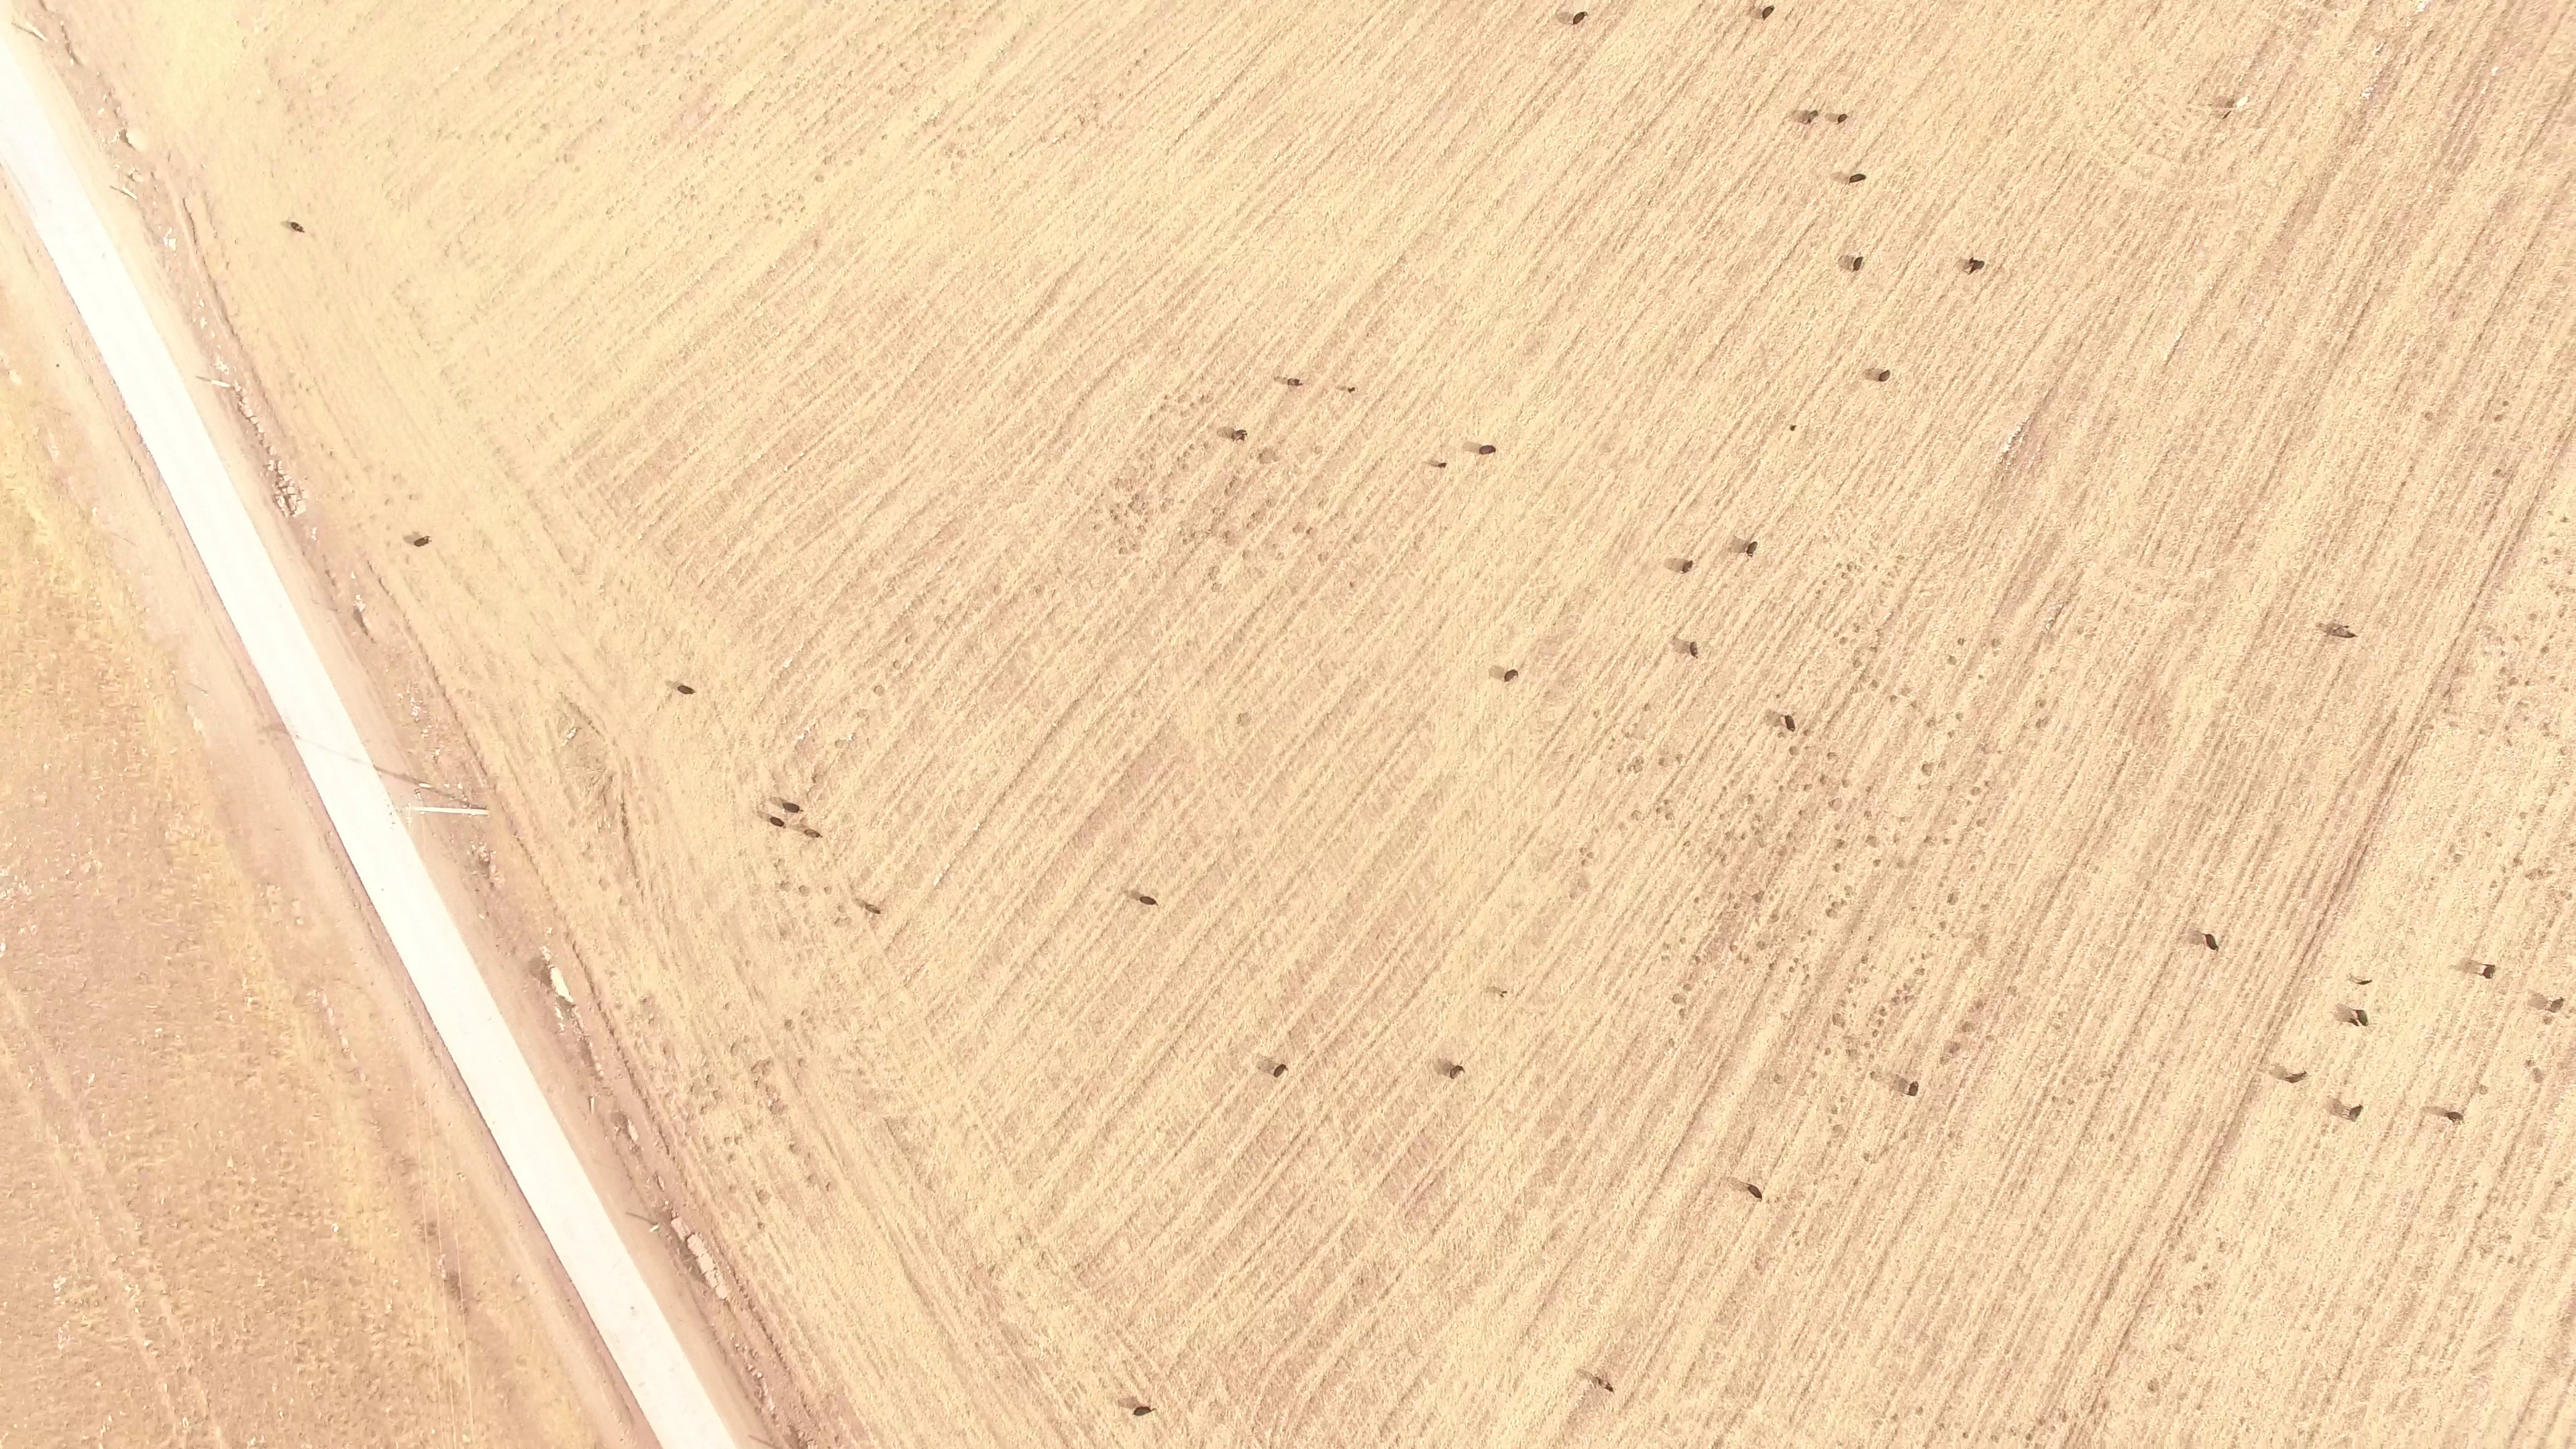sheep: (777, 797, 808, 817), (1267, 1059, 1295, 1083), (796, 822, 826, 843), (1589, 1373, 1616, 1395), (1444, 1061, 1470, 1083), (2198, 929, 2222, 953), (1130, 1401, 1157, 1423), (2281, 1067, 2308, 1086), (858, 898, 886, 917), (1846, 253, 1868, 276), (1740, 1181, 1765, 1201), (2350, 1004, 2371, 1030), (1226, 426, 1254, 445), (2544, 995, 2567, 1016), (1800, 106, 1823, 127), (1134, 890, 1160, 908), (671, 680, 698, 698), (280, 218, 307, 235), (1900, 1077, 1922, 1099), (2479, 961, 2500, 982), (1843, 170, 1872, 186), (2345, 1102, 2366, 1125), (2227, 92, 2251, 111), (2441, 1108, 2467, 1125), (1473, 440, 1499, 458), (1963, 256, 1988, 274), (763, 813, 788, 830), (1684, 640, 1705, 661), (1676, 557, 1697, 578), (1740, 539, 1762, 559), (1872, 367, 1894, 385), (1756, 3, 1778, 22), (1499, 667, 1521, 685), (410, 533, 433, 550), (1568, 9, 1591, 27), (1781, 712, 1799, 735), (1429, 458, 1452, 472), (1285, 375, 1304, 391), (1831, 111, 1850, 126), (1342, 383, 1362, 396), (2357, 975, 2374, 988)
unknown: (612, 1109, 640, 1143), (441, 1269, 464, 1304), (2322, 620, 2358, 641), (578, 1039, 598, 1071), (350, 606, 371, 637), (2379, 765, 2399, 796), (787, 1422, 811, 1449), (262, 718, 291, 738), (394, 771, 425, 788), (2326, 1095, 2348, 1120), (525, 1205, 544, 1232), (280, 490, 297, 518), (2456, 957, 2481, 977), (266, 470, 286, 494), (1764, 712, 1784, 730), (514, 1184, 531, 1207), (619, 812, 633, 841), (475, 857, 493, 875), (2101, 1276, 2116, 1303), (2331, 871, 2348, 894), (2532, 995, 2551, 1012), (647, 1428, 663, 1449), (2530, 1065, 2546, 1086), (421, 1006, 437, 1028), (2341, 854, 2356, 876), (713, 1283, 729, 1300), (1946, 1039, 1963, 1057), (1864, 832, 1879, 849), (1918, 761, 1935, 776), (568, 1298, 588, 1313), (424, 1219, 439, 1239), (117, 128, 131, 146), (1958, 1020, 1975, 1035), (2206, 1157, 2221, 1175), (1829, 1011, 1843, 1026), (1750, 890, 1764, 906), (1816, 771, 1829, 788), (627, 1070, 639, 1087), (2489, 552, 2502, 569), (1255, 449, 1267, 466), (572, 1310, 585, 1326), (781, 1016, 795, 1030), (2541, 1014, 2555, 1028), (1972, 998, 1986, 1012), (1690, 953, 1704, 966), (2491, 411, 2506, 425), (727, 1263, 739, 1279), (466, 1092, 478, 1108), (2314, 916, 2327, 933), (1945, 890, 1957, 906), (1833, 836, 1846, 851), (268, 491, 281, 508), (233, 388, 246, 405), (2035, 1415, 2048, 1428), (2201, 1279, 2214, 1291), (645, 1216, 659, 1229), (1771, 1071, 1784, 1085), (425, 1041, 437, 1054), (1669, 995, 1683, 1006), (1754, 940, 1768, 953), (1831, 860, 1843, 874), (1784, 828, 1796, 842), (1656, 755, 1668, 769), (1786, 743, 1799, 757), (1800, 726, 1813, 739), (2033, 716, 2045, 731), (2037, 698, 2049, 711), (2506, 674, 2518, 689), (2538, 643, 2552, 657), (1220, 527, 1233, 541), (2523, 505, 2536, 520), (2490, 466, 2504, 478), (66, 50, 80, 63), (62, 39, 74, 54), (2174, 1224, 2186, 1240), (2214, 1143, 2226, 1159), (768, 1411, 780, 1422), (2099, 1399, 2111, 1412), (2145, 1382, 2157, 1395), (2116, 1338, 2128, 1350), (2116, 1255, 2128, 1267), (2505, 1254, 2517, 1267), (1829, 1124, 1841, 1135), (1901, 983, 1914, 994), (1858, 953, 1871, 965), (777, 928, 790, 939), (1823, 906, 1835, 919), (2327, 892, 2339, 904), (777, 879, 789, 892), (1872, 856, 1884, 869), (2510, 855, 2523, 867), (2451, 852, 2463, 865), (1584, 849, 1596, 861), (1776, 847, 1789, 859), (1868, 679, 1881, 691), (1856, 671, 1868, 684), (1955, 636, 1967, 648), (2513, 527, 2524, 540), (1125, 499, 1137, 511), (2000, 451, 2011, 463), (1786, 422, 1799, 434), (1711, 1438, 1725, 1449), (213, 1426, 223, 1440), (2121, 1326, 2133, 1342), (2501, 1152, 2513, 1165), (1666, 1152, 1677, 1165), (2221, 1132, 2232, 1146), (606, 1025, 617, 1038), (1877, 1006, 1888, 1019), (374, 942, 384, 955), (1975, 932, 1986, 946), (1937, 918, 1949, 932), (1946, 653, 1957, 666), (1867, 643, 1881, 655), (250, 421, 261, 435), (2346, 328, 2357, 341), (219, 309, 231, 323), (2023, 1432, 2035, 1444), (2059, 1412, 2070, 1425), (755, 1395, 767, 1406), (751, 1387, 763, 1398), (751, 1372, 761, 1384), (141, 1338, 152, 1349), (763, 1333, 775, 1343), (2195, 1305, 2206, 1317), (460, 1304, 472, 1315), (745, 1301, 756, 1313), (1381, 1287, 1392, 1299), (2166, 1241, 2177, 1252), (2554, 1178, 2566, 1189), (1851, 1177, 1862, 1189), (509, 1175, 520, 1187), (1861, 1152, 1872, 1164), (786, 1141, 797, 1153), (1824, 1138, 1834, 1149), (2105, 1132, 2117, 1144), (476, 1112, 487, 1124), (1829, 1106, 1840, 1118), (1867, 1068, 1878, 1079), (2522, 1057, 2535, 1069), (2265, 1018, 2276, 1030), (1875, 1016, 1886, 1028), (1888, 994, 1900, 1006), (588, 982, 598, 995), (1786, 964, 1797, 975), (1766, 960, 1776, 973), (1768, 911, 1780, 922), (370, 908, 381, 920), (358, 884, 369, 896), (486, 879, 497, 892), (1893, 859, 1906, 871), (1941, 835, 1951, 847), (1921, 833, 1933, 846), (2483, 829, 2494, 840), (1833, 822, 1843, 833), (1662, 810, 1673, 822), (1661, 796, 1672, 808), (1968, 786, 1978, 798), (1864, 784, 1875, 795), (605, 773, 615, 785), (1632, 756, 1643, 767), (2394, 755, 2404, 767), (1978, 743, 1989, 755), (1621, 731, 1632, 741), (2540, 720, 2551, 732), (1923, 719, 1934, 730), (1909, 699, 1919, 711), (2451, 665, 2463, 676), (2498, 664, 2509, 676), (1988, 637, 1998, 649), (1837, 635, 1849, 647), (1852, 623, 1863, 635), (1346, 579, 1357, 590), (1844, 562, 1855, 574), (2560, 514, 2570, 526), (2398, 479, 2409, 490), (260, 461, 271, 472), (136, 435, 146, 447), (234, 402, 245, 416), (2500, 398, 2512, 409), (226, 383, 238, 394), (2362, 300, 2372, 311), (35, 1, 48, 11), (1915, 1405, 1926, 1416), (2194, 1402, 2204, 1412), (742, 1391, 752, 1401), (754, 1379, 764, 1389), (2565, 1375, 2575, 1385), (720, 1349, 731, 1360), (745, 1346, 755, 1356), (771, 1345, 782, 1356), (2484, 1341, 2494, 1351), (714, 1339, 724, 1349), (708, 1328, 719, 1340), (759, 1324, 769, 1334), (2563, 1313, 2575, 1324), (572, 1289, 583, 1301), (2191, 1283, 2201, 1293), (51, 1281, 61, 1291), (58, 1275, 68, 1285), (1752, 1262, 1762, 1272), (2216, 1242, 2226, 1252), (540, 1232, 551, 1242), (804, 1173, 815, 1184), (225, 1158, 235, 1168), (726, 1151, 736, 1163), (1881, 1144, 1892, 1155), (1745, 1127, 1755, 1137), (1686, 1118, 1697, 1129), (1690, 1110, 1700, 1120), (472, 1105, 482, 1115), (1946, 1100, 1956, 1110), (2049, 1093, 2059, 1104), (462, 1085, 472, 1095), (751, 1077, 761, 1087), (456, 1075, 466, 1085), (2106, 1070, 2116, 1081), (453, 1067, 463, 1077), (759, 1060, 769, 1070), (794, 1057, 804, 1067), (2116, 1049, 2127, 1059), (2052, 1022, 2063, 1033), (599, 1010, 610, 1021), (554, 1008, 564, 1019), (409, 1008, 420, 1020), (1676, 1006, 1687, 1016), (639, 996, 649, 1006), (245, 995, 255, 1005), (1906, 993, 1916, 1003), (1490, 984, 1501, 995), (1682, 983, 1694, 994), (1741, 955, 1752, 967), (2546, 918, 2556, 928), (364, 898, 376, 909), (1691, 895, 1702, 906), (796, 885, 806, 896), (1936, 880, 1946, 890), (352, 872, 363, 883), (2534, 866, 2544, 878), (2353, 863, 2363, 873), (1578, 857, 1589, 867), (2447, 842, 2457, 853), (2353, 837, 2363, 847), (1723, 829, 1733, 840), (2271, 822, 2282, 833), (1897, 814, 1908, 825), (1861, 808, 1872, 819), (755, 808, 765, 820), (2535, 806, 2546, 816), (1653, 806, 1663, 816), (618, 804, 628, 815), (1826, 800, 1837, 810), (996, 794, 1007, 804), (1982, 777, 1992, 788), (1839, 777, 1849, 788), (1673, 753, 1684, 764), (1566, 752, 1576, 762), (1824, 750, 1834, 761), (2212, 741, 2222, 751), (2504, 738, 2514, 748), (2542, 729, 2553, 739), (1776, 729, 1787, 740), (2477, 727, 2487, 737), (2502, 722, 2512, 733), (1953, 711, 1964, 722), (2440, 706, 2451, 716), (1642, 700, 1653, 710), (1069, 698, 1080, 709), (1773, 692, 1783, 702), (2494, 691, 2505, 703), (2426, 687, 2436, 697), (2522, 678, 2532, 689), (2547, 673, 2558, 683), (431, 673, 441, 684), (2031, 644, 2041, 655), (1670, 634, 1681, 644), (2528, 610, 2538, 621), (2468, 600, 2479, 611), (328, 576, 338, 588), (322, 566, 333, 578), (1315, 551, 1325, 563), (2551, 547, 2562, 557), (1187, 530, 1198, 541), (2233, 526, 2243, 537), (1111, 513, 1121, 524), (2482, 498, 2492, 508), (2532, 493, 2542, 504), (2407, 463, 2417, 474), (2001, 443, 2011, 453), (255, 437, 266, 447), (2555, 432, 2565, 442), (2165, 352, 2176, 362), (2357, 311, 2367, 321), (209, 281, 219, 291), (811, 239, 821, 250), (184, 209, 194, 219), (812, 173, 822, 183), (1180, 126, 1190, 136), (2366, 92, 2376, 102), (1936, 1420, 1947, 1430), (1746, 792, 1756, 803), (1303, 526, 1313, 537), (2031, 1441, 2042, 1449), (1921, 1440, 1932, 1449), (2238, 1415, 2248, 1425), (1890, 1413, 1900, 1423), (751, 1403, 761, 1413), (2103, 1368, 2113, 1379), (2447, 1332, 2457, 1342), (2089, 1317, 2099, 1327), (1537, 1304, 1547, 1314), (723, 1299, 733, 1309), (2151, 1272, 2161, 1282), (2116, 1265, 2126, 1275), (1073, 1260, 1083, 1270), (2480, 1246, 2490, 1256), (1548, 1232, 1558, 1242), (755, 1219, 765, 1230), (2475, 1212, 2485, 1222), (1286, 1206, 1296, 1216), (1946, 1130, 1957, 1140), (449, 1081, 459, 1092), (2110, 1063, 2121, 1073), (1167, 1043, 1177, 1053), (433, 1029, 443, 1040), (1837, 1020, 1847, 1030), (573, 951, 583, 961), (2020, 950, 2030, 960), (1, 943, 8, 953), (364, 920, 374, 930), (2045, 898, 2055, 908), (2558, 888, 2568, 899), (2057, 874, 2067, 884), (2526, 870, 2536, 881), (2349, 870, 2359, 880), (2356, 855, 2366, 865), (2359, 848, 2369, 858), (1576, 845, 1587, 855), (328, 845, 338, 855), (1738, 833, 1748, 843), (1974, 818, 1984, 828), (1085, 813, 1095, 823), (1719, 784, 1729, 794), (1776, 784, 1786, 794), (1801, 782, 1811, 792), (810, 771, 820, 781), (2442, 688, 2452, 698), (2561, 684, 2571, 695), (1202, 666, 1212, 676), (2512, 633, 2522, 644), (353, 592, 363, 602), (2565, 568, 2575, 578), (1179, 536, 1189, 547), (1349, 533, 1359, 543), (1248, 511, 1258, 521), (1226, 479, 1236, 489), (1179, 461, 1189, 471), (2009, 455, 2019, 465), (2339, 345, 2349, 355), (191, 235, 201, 246), (2196, 148, 2206, 158), (2544, 112, 2554, 122), (2213, 111, 2223, 121), (61, 32, 71, 42), (2320, 1, 2331, 9), (93, 1379, 103, 1389), (2200, 1263, 2210, 1273), (438, 1040, 448, 1050), (2055, 1010, 2065, 1020), (1845, 985, 1855, 995), (410, 985, 420, 995), (1917, 965, 1927, 975), (1981, 902, 1991, 912), (2567, 840, 2576, 850), (1526, 831, 1536, 841), (2315, 621, 2325, 631), (1201, 440, 1211, 450), (2269, 28, 2279, 38), (771, 1444, 782, 1449), (2059, 1443, 2070, 1449), (2571, 1299, 2576, 1309), (2443, 1, 2454, 5)
